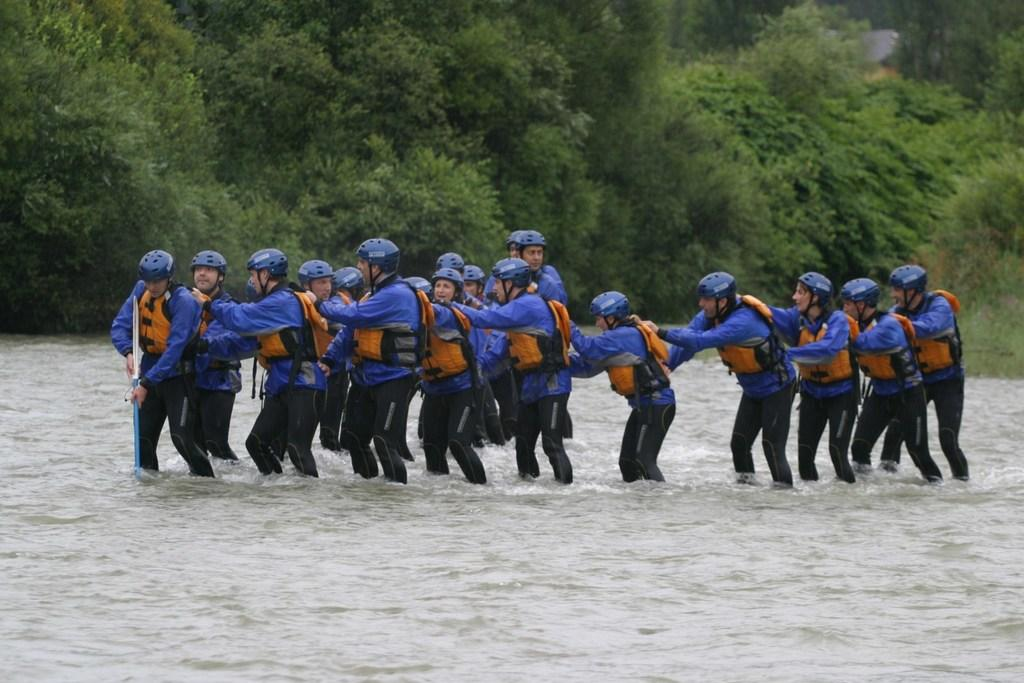helmet: (480, 255, 557, 303), (775, 276, 839, 329), (475, 272, 537, 324), (336, 260, 402, 308), (881, 274, 936, 330), (237, 268, 299, 316), (684, 284, 742, 334), (174, 267, 232, 314), (584, 306, 648, 346), (446, 275, 496, 319), (130, 272, 190, 308), (319, 284, 373, 324), (286, 278, 334, 318), (423, 269, 479, 303), (839, 284, 878, 331), (421, 287, 467, 319)
vest: (878, 278, 990, 402), (672, 297, 794, 388), (573, 298, 682, 396), (768, 302, 884, 386), (837, 306, 940, 395), (468, 290, 572, 378), (331, 298, 432, 386), (406, 308, 488, 392), (234, 299, 316, 364), (169, 302, 240, 374), (304, 293, 364, 362), (120, 298, 180, 364)
